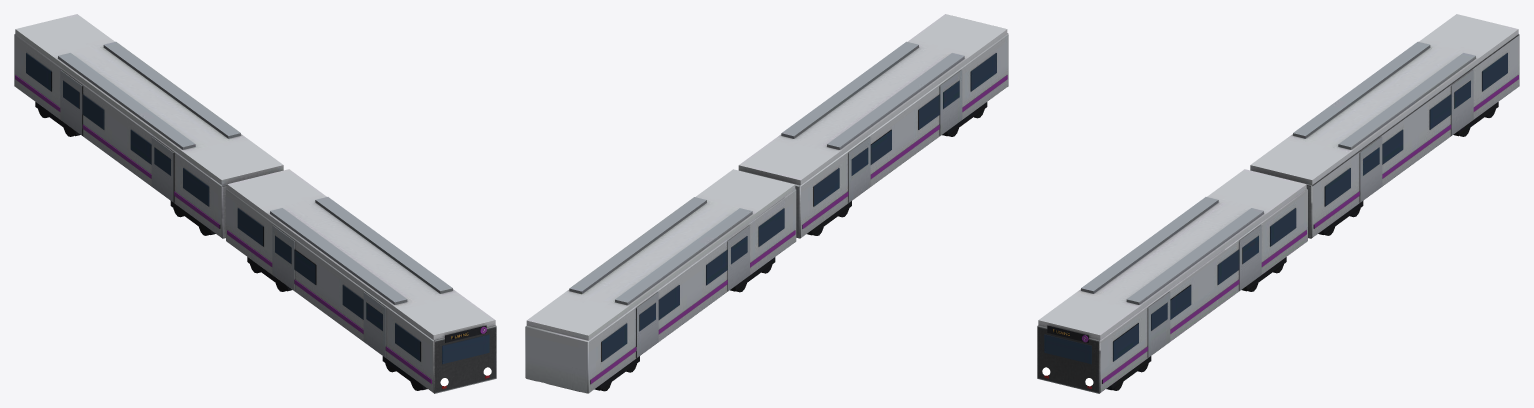
The model's file is tren.glb.
3 renders of one model, left to right at view 1: azimuth 30°, elevation 25°; view 2: azimuth 150°, elevation 25°; view 3: azimuth 330°, elevation 25°, orthographic.
Parts seen in each view (by area): view 1: tren; view 2: tren; view 3: tren.
Part boxes in pixels (left/top/right/bottom): tren: left=14, top=14, right=496, bottom=393; tren: left=525, top=14, right=1008, bottom=393; tren: left=1037, top=14, right=1519, bottom=393.
Bounding box in the file's own units: 2.06 × 2.28 × 23.14.
Materials: 1 (1 with a texture image).
